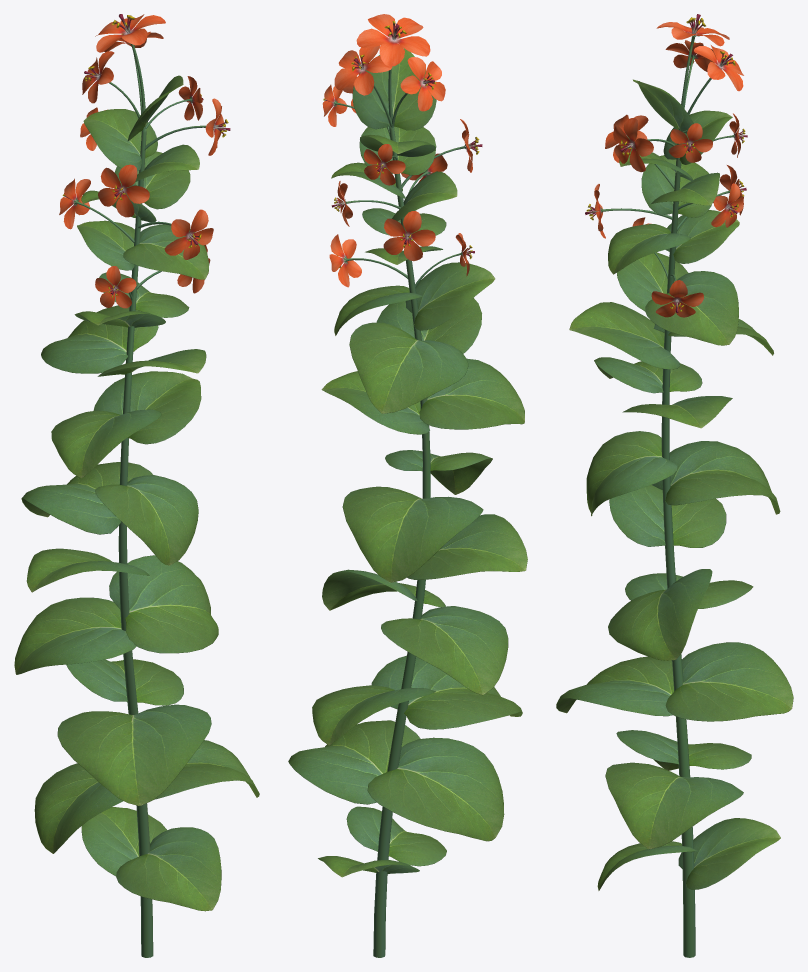
The model's file is cgaxis_models_91_48_fbx.fbx.
The picture shows the model from 3 angles, left to right: view 1: azimuth 30°, elevation 25°; view 2: azimuth 150°, elevation 25°; view 3: azimuth 270°, elevation 25°; orthographic projection.
Parts seen in each view (by area): view 1: cgaxis_models_91_48_01; view 2: cgaxis_models_91_48_01; view 3: cgaxis_models_91_48_01.
Boxes of the visible parts, box(x1,y1,x2,y2) form: cgaxis_models_91_48_01: box(14, 14, 259, 957); cgaxis_models_91_48_01: box(288, 14, 527, 957); cgaxis_models_91_48_01: box(556, 14, 793, 957).
Bounding box in the file's own units: 2.45 × 9.81 × 2.27.
Materials: 1 (1 with a texture image).
